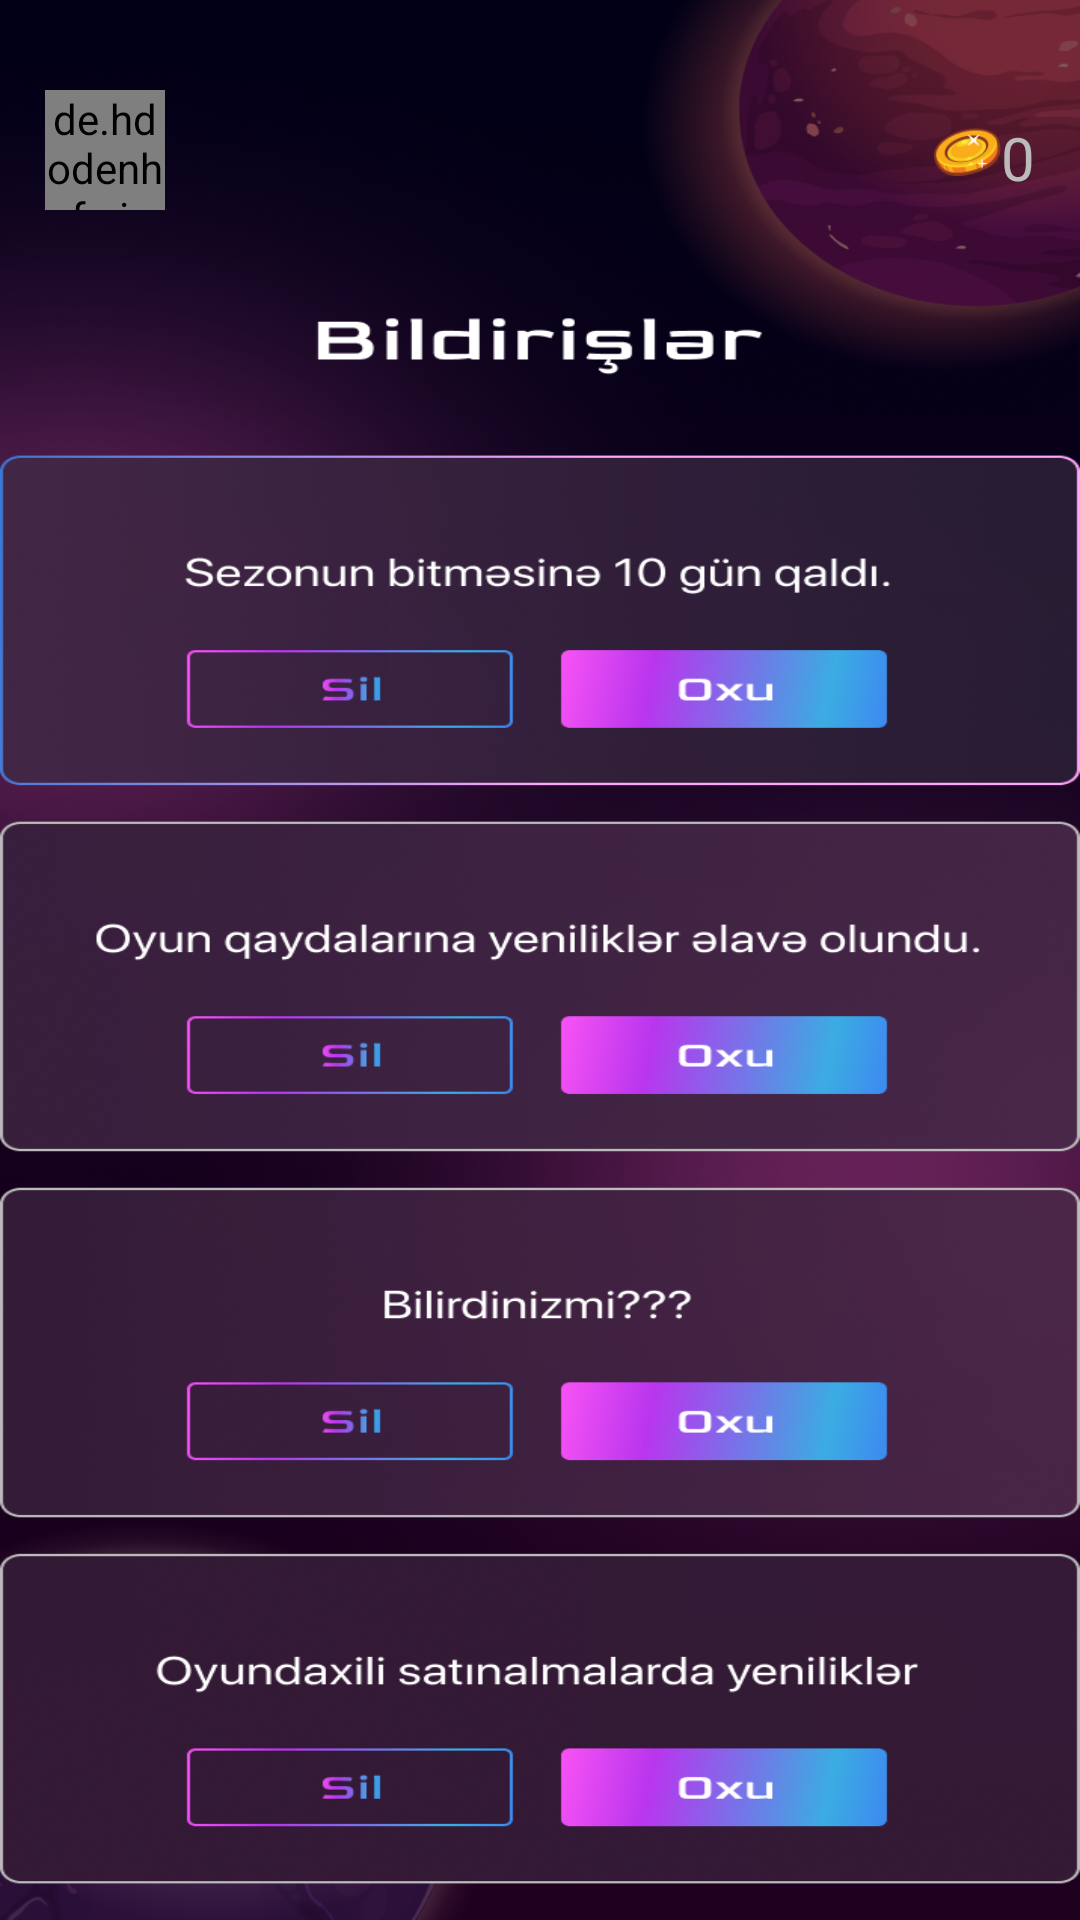

Point at icon controls on the screen. Image size 1080*1920, points as point (x, y).
coin: point (966, 165)
